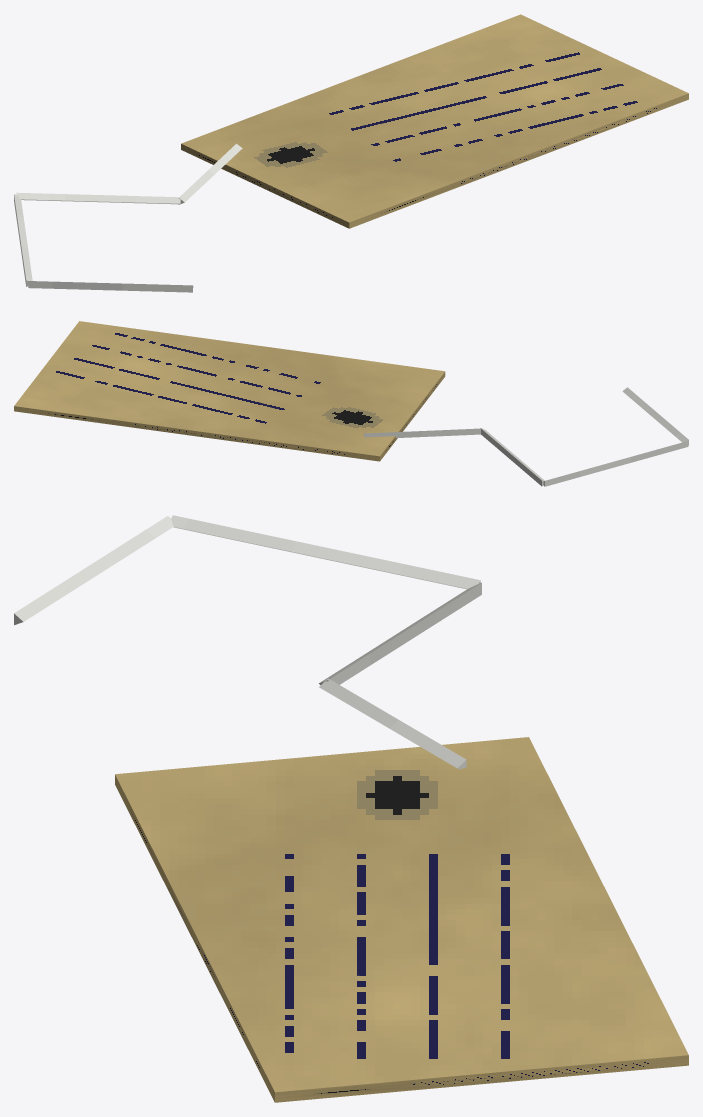
The model's file is item_toe_tag.glb.
The picture shows the model from 3 angles, top to bottom: view 1: azimuth 30°, elevation 25°; view 2: azimuth 150°, elevation 25°; view 3: azimuth 270°, elevation 25°; orthographic projection. The views are drawn at different scales.
Parts seen in each view (by area): view 1: tag; view 2: tag; view 3: tag.
Part boxes in pixels (box(x1,y1,x2,y2)): tag: box(14, 14, 688, 292); tag: box(14, 321, 688, 486); tag: box(14, 515, 688, 1102).
Size of the model in its own units: 0.1751 by 0.00262 by 0.0877.
Materials: 2 (2 with a texture image).
